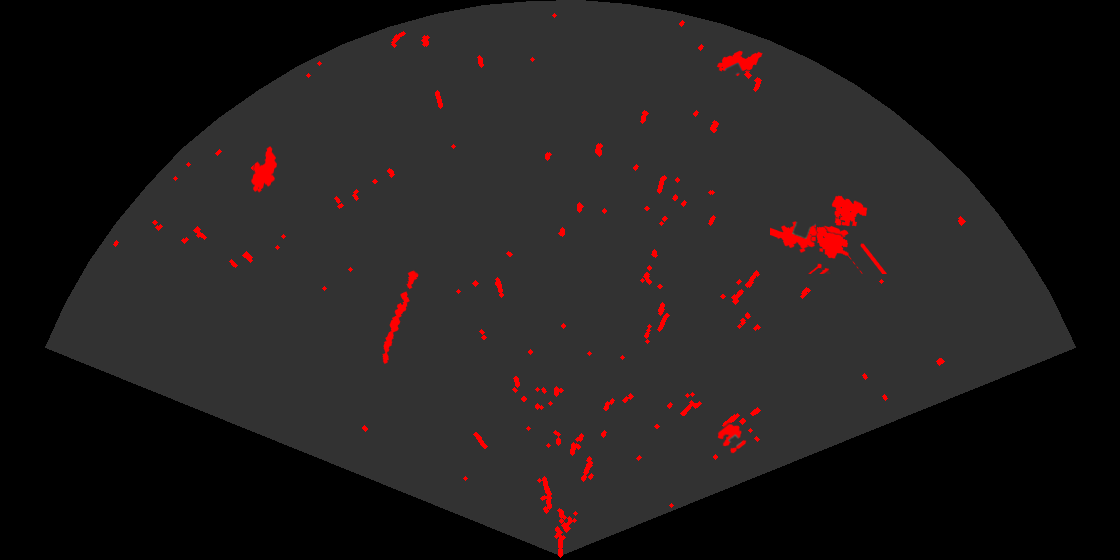AUV: (250, 145, 279, 194), (715, 49, 764, 78)
ball: (716, 422, 748, 455)
cage: (807, 194, 888, 274)
chain: (381, 269, 420, 365)
frogman: (770, 220, 850, 255)
